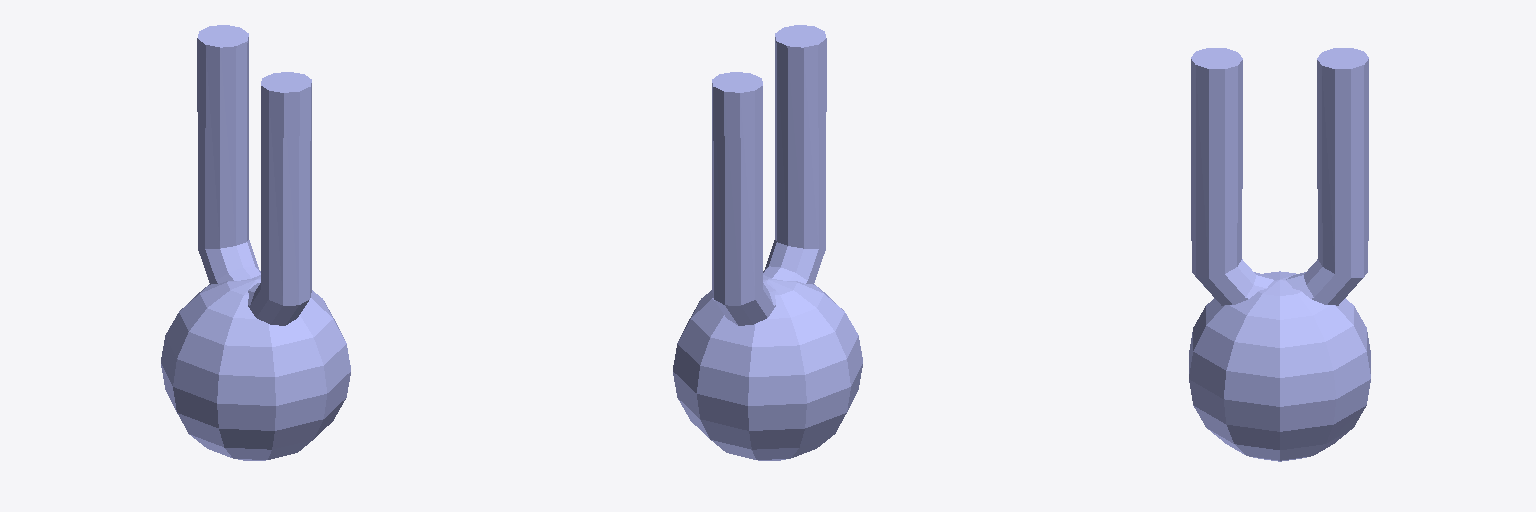
File: liptid-node.obj
3 views of the same model, side by side, from view 1: azimuth 30°, elevation 25°; view 2: azimuth 150°, elevation 25°; view 3: azimuth 270°, elevation 25° (orthographic).
Parts seen in each view (by area): view 1: 000_Merged_Objects_1; view 2: 000_Merged_Objects_1; view 3: 000_Merged_Objects_1.
Boxes of the visible parts, x1=… form: 000_Merged_Objects_1: x1=161, y1=25, x2=350, y2=460; 000_Merged_Objects_1: x1=673, y1=25, x2=862, y2=460; 000_Merged_Objects_1: x1=1189, y1=48, x2=1370, y2=461.
Size of the model in its own units: 100 by 227 by 95.11.